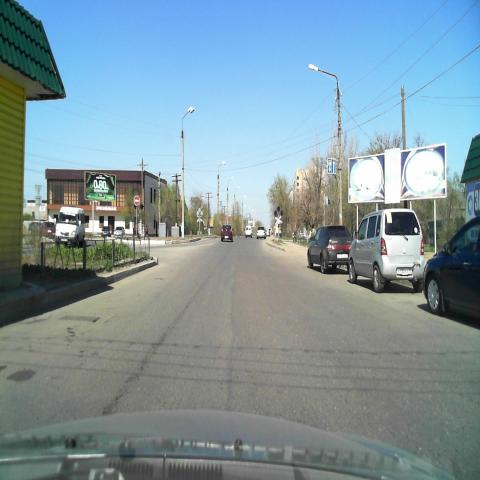5_11: (326, 157, 338, 175)
